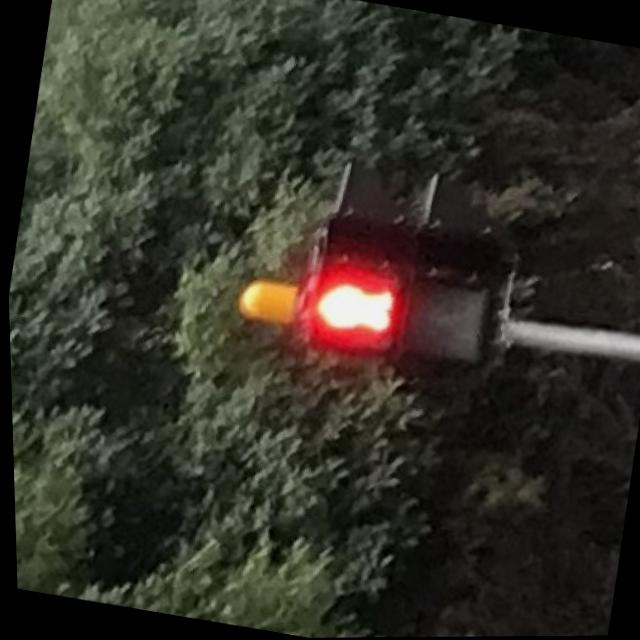red_light: (302, 257, 402, 356)
